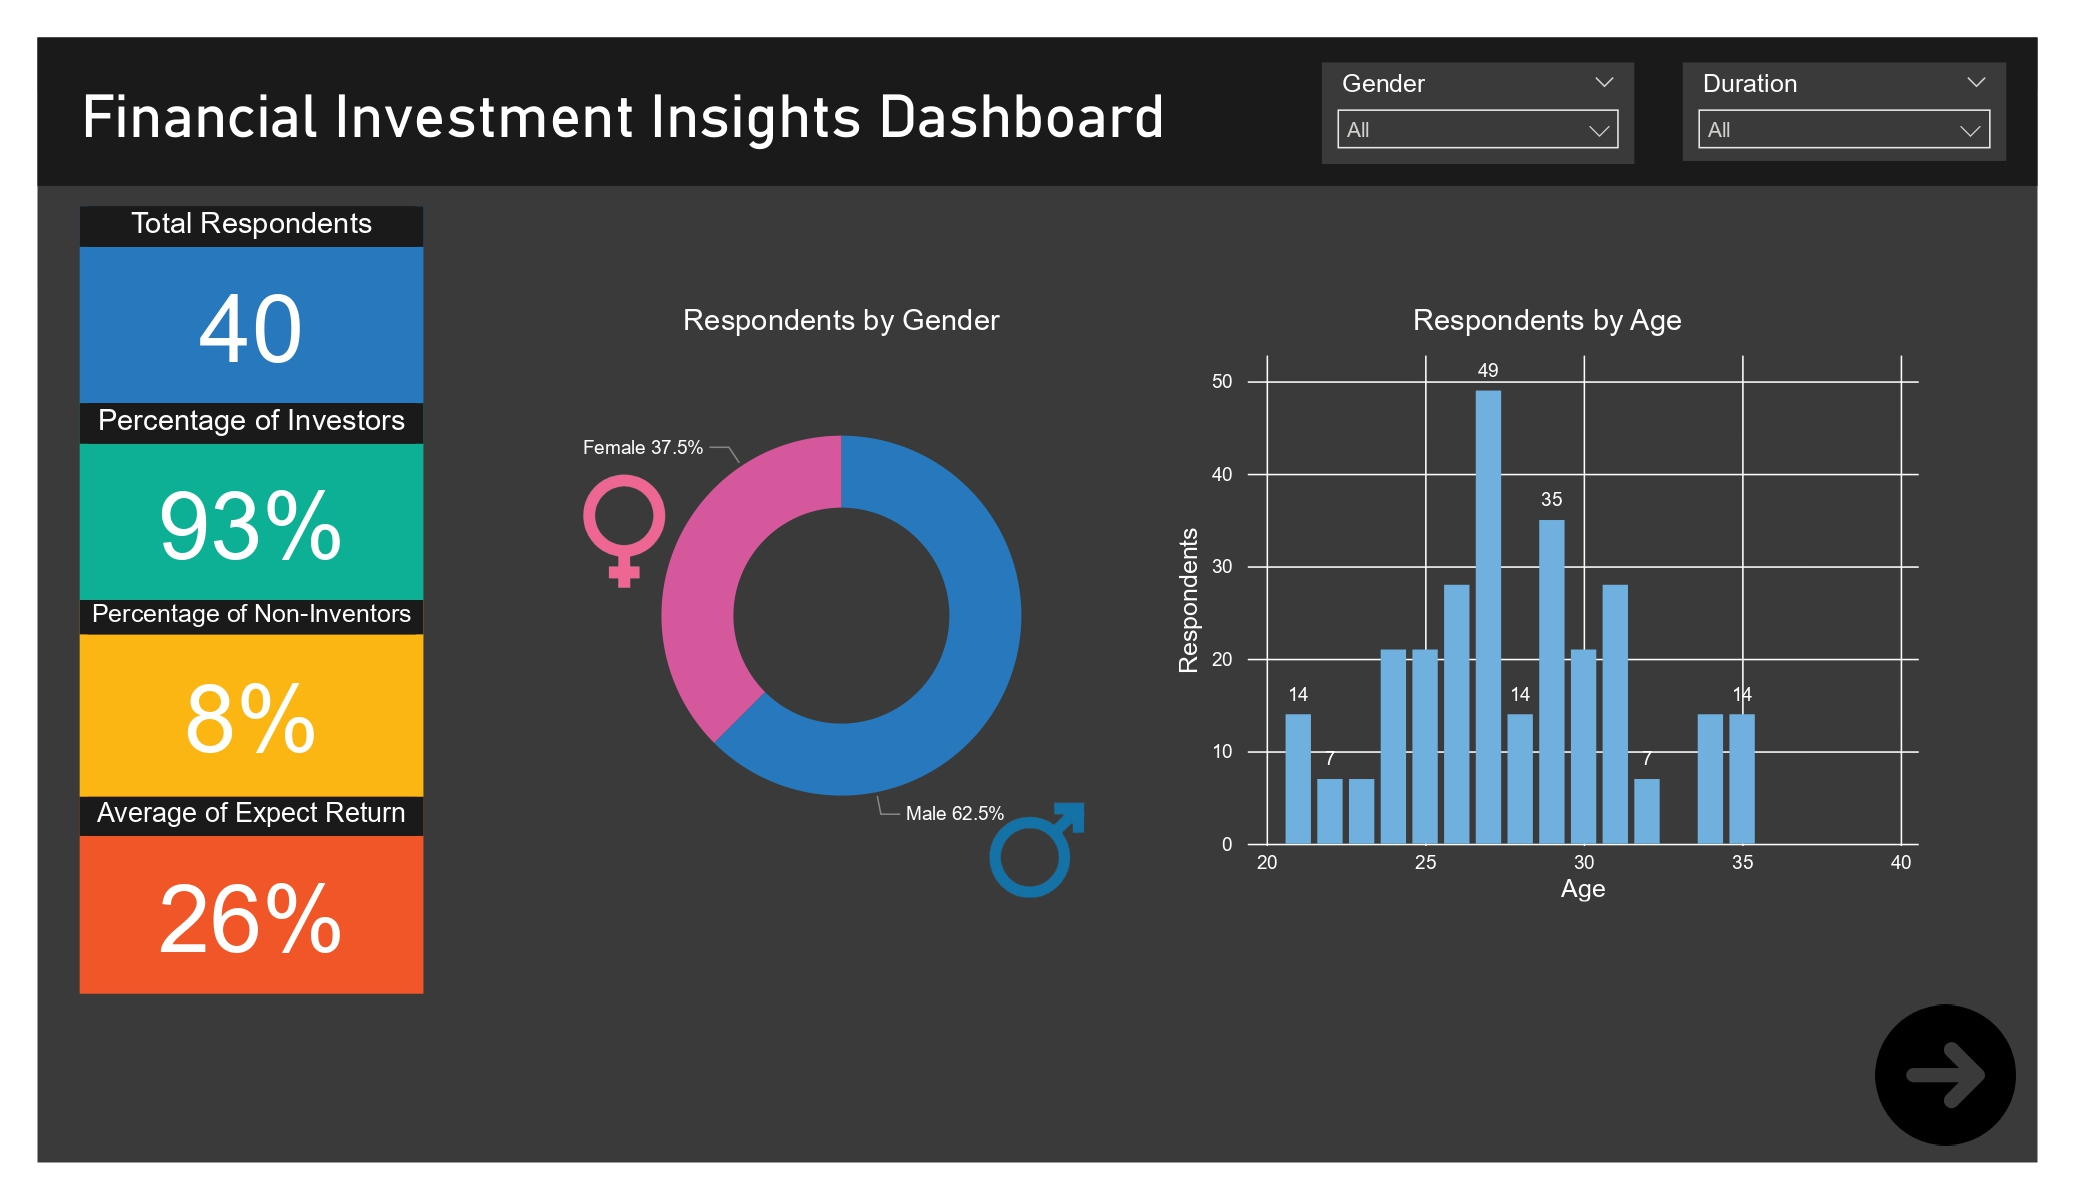

What the dashboard file says about the page in this screenshot:
{"tool":"powerbi","page":{"name":"Overview","canvas":[1280,720],"ordinal":0},"visuals":[{"type":"shape","box":[0,0,1280,95],"z":0},{"type":"slicer","fields":{"Values":["Finance_data.gender"]},"box":[822.1,15.6,199.9,65.2],"z":1000},{"type":"slicer","fields":{"Values":["Finance_data.Duration"]},"box":[1053.2,15.6,207,63.8],"z":2000},{"type":"textbox","title":"Finance Data Analyst","box":[5.7,22.7,738.5,55.3],"z":3000},{"type":"card","title":"Total Respondents","fields":{"Values":["Count(Finance_data.RespondentID)"]},"box":[26.9,107.7,219.7,126.2],"z":4000},{"type":"card","title":"Percentage of Investors","fields":{"Values":["Finance_data.PctInvestors"]},"box":[26.9,233.9,219.7,126.2],"z":5000},{"type":"card","title":"Percentage of Non-Inventors","fields":{"Values":["Finance_data.Pct_NonInvestors"]},"box":[26.9,360,219.7,126.2],"z":6000},{"type":"card","title":"Average of Expect Return","fields":{"Values":["Avg(Finance_data.Expect_Midpoint)"]},"box":[26.9,486.2,219.7,126.2],"z":7000},{"type":"donutChart","title":"Respondents by Gender","fields":{"Category":["Finance_data.gender"],"Y":["CountNonNull(Finance_data.RespondentID)"]},"box":[323.2,170.1,382.7,378.5],"z":8000},{"type":"columnChart","title":"Respondents by Age","fields":{"Y":["CountNonNull(Finance_data.RespondentID)"],"Category":["Finance_data.age"]},"box":[724.3,170.1,484.8,388.4],"z":9000},{"type":"image","box":[1170.9,606.7,100.6,113.4],"z":10000},{"type":"image","box":[335.9,272.2,78,87.9],"z":11000},{"type":"image","box":[595.3,481.9,89.3,76.5],"z":12000}]}

Visuals, with their boxes on the page's 1280x720 design canvas (x1, y1, x2, y2). These are canvas units, not pixel positions in the 2075x1200 screenshot, which may show the page scaled, cropped or inside an application window:
shape: BBox(0, 0, 1280, 95)
slicer - Finance_data.gender: BBox(822, 16, 1022, 81)
slicer - Finance_data.Duration: BBox(1053, 16, 1260, 79)
"Finance Data Analyst" textbox: BBox(6, 23, 744, 78)
"Total Respondents" card: BBox(27, 108, 247, 234)
"Percentage of Investors" card: BBox(27, 234, 247, 360)
"Percentage of Non-Inventors" card: BBox(27, 360, 247, 486)
"Average of Expect Return" card: BBox(27, 486, 247, 612)
"Respondents by Gender" donutChart: BBox(323, 170, 706, 549)
"Respondents by Age" columnChart: BBox(724, 170, 1209, 558)
image: BBox(1171, 607, 1272, 720)
image: BBox(336, 272, 414, 360)
image: BBox(595, 482, 685, 558)
